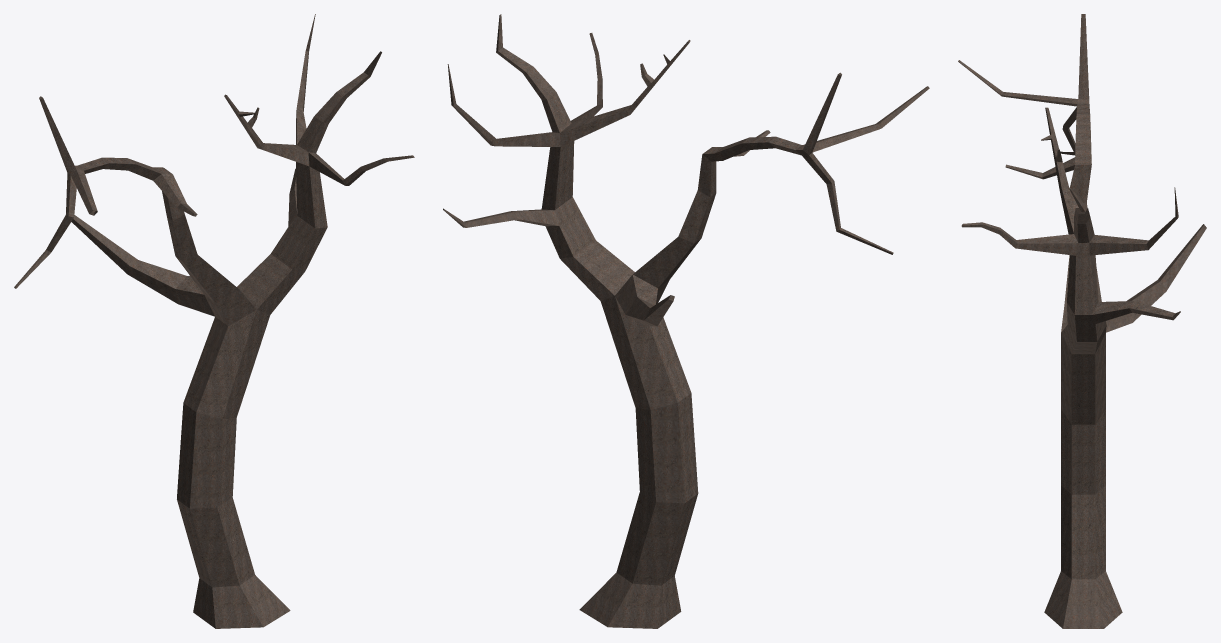
File: Arbol_Muerto.fbx
3 renders of one model, left to right at view 1: azimuth 30°, elevation 25°; view 2: azimuth 150°, elevation 25°; view 3: azimuth 270°, elevation 25°, orthographic. The views are drawn at different scales.
Parts seen in each view (by area): view 1: Arbol_Sin_Hojas; view 2: Arbol_Sin_Hojas; view 3: Arbol_Sin_Hojas.
Part boxes in pixels (x1,y1,x2,y2): Arbol_Sin_Hojas: [14, 14, 414, 628]; Arbol_Sin_Hojas: [443, 14, 929, 628]; Arbol_Sin_Hojas: [958, 14, 1206, 628].
Bounding box in the file's own units: 1864 × 2694 × 1192.
